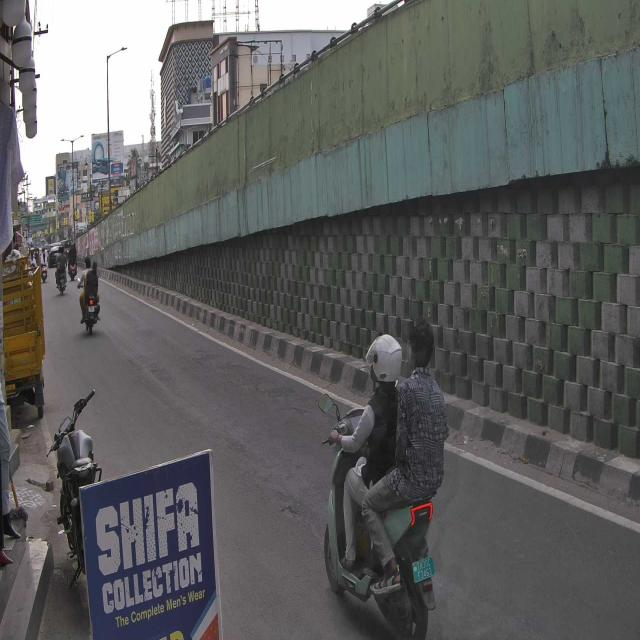double_rider: (314, 312, 448, 640)
